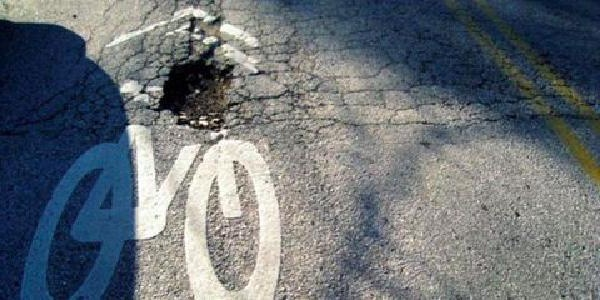pothole: (153, 50, 245, 137)
